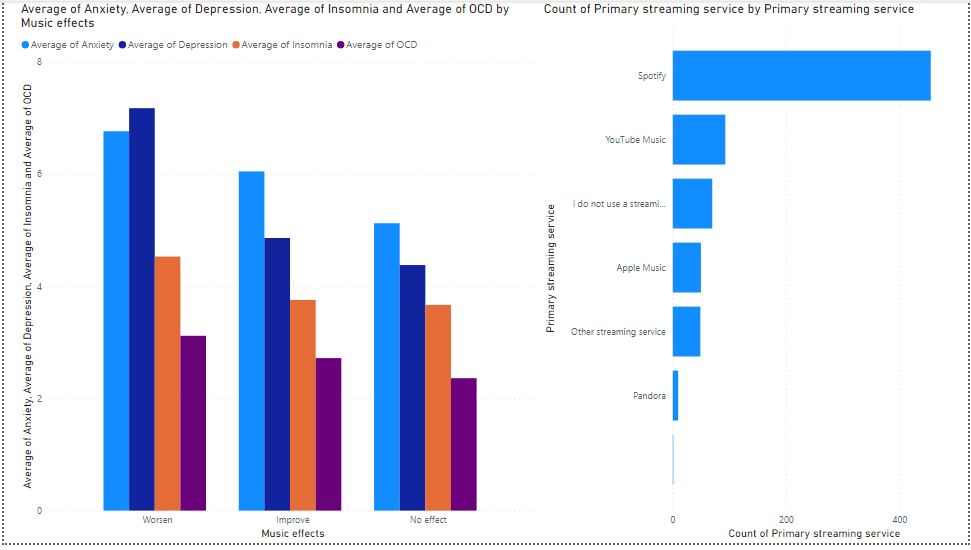

What the dashboard file says about the page in this screenshot:
{"tool":"powerbi","page":{"name":"Page 2","canvas":[1280,720],"ordinal":1},"visuals":[{"type":"clusteredColumnChart","fields":{"Category":["Music-and-Therapy-survey-1.Music effects"],"Y":["Avg(Music-and-Therapy-survey-1.Anxiety)","Avg(Music-and-Therapy-survey-1.Depression)","Avg(Music-and-Therapy-survey-1.Insomnia)","Avg(Music-and-Therapy-survey-1.OCD)"]},"box":[17.6,0,695.1,720],"z":0},{"type":"clusteredBarChart","fields":{"Category":["Music-and-Therapy-survey-1.Primary streaming service"],"Y":["CountNonNull(Music-and-Therapy-survey-1.Primary streaming service)"]},"box":[712.7,0,567.8,720],"z":1000}]}

Visuals, with their boxes in screenshot pixels (x1, y1, x2, y2), scaled from the page's 1280x720 canvas onto the 971x550 screenshot:
clusteredColumnChart - Music-and-Therapy-survey-1.Music effects x Avg(Music-and-Therapy-survey-1.Anxiety): left=13, top=0, right=541, bottom=549
clusteredBarChart - Music-and-Therapy-survey-1.Primary streaming service x CountNonNull(Music-and-Therapy-survey-1.Primary streaming service): left=541, top=0, right=970, bottom=549
